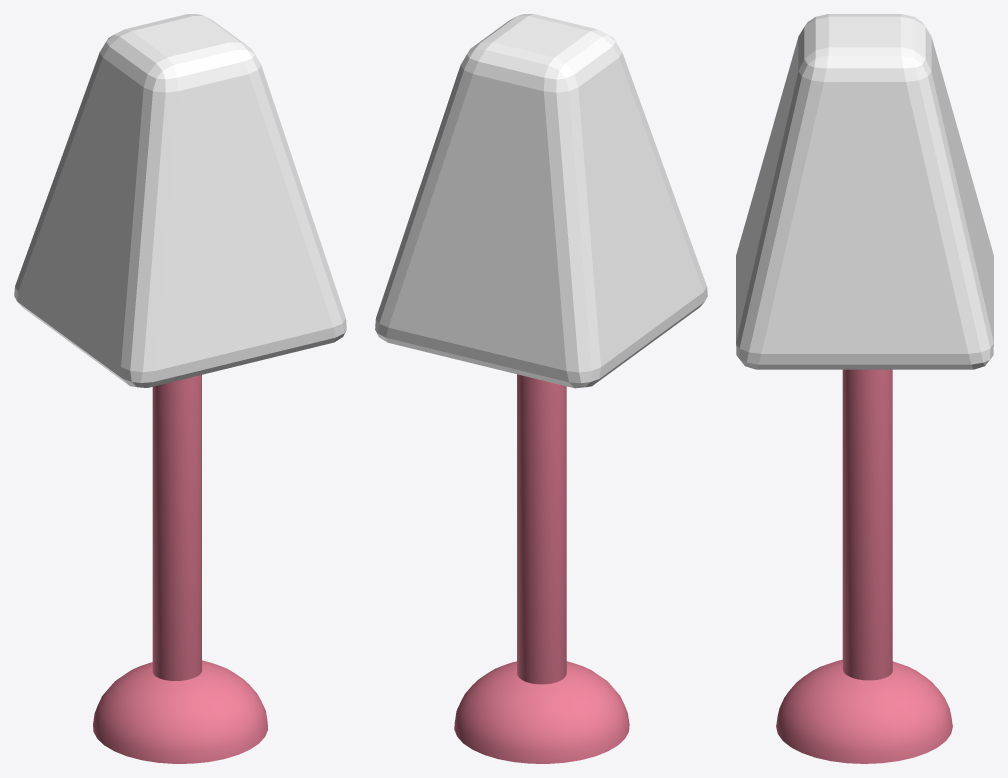
Rendered from Torsher.fbx.
3 views of the same model, side by side, from view 1: azimuth 30°, elevation 25°; view 2: azimuth 150°, elevation 25°; view 3: azimuth 270°, elevation 25° (orthographic).
Visible parts, largest first — view 1: Cube.009; view 2: Cube.009; view 3: Cube.009.
Part boxes in pixels (x1,y1,x2,y2): Cube.009: (14,14,346,763); Cube.009: (375,14,707,763); Cube.009: (736,14,993,763).
Size of the model in its own units: 18.71 by 55.61 by 18.71.
